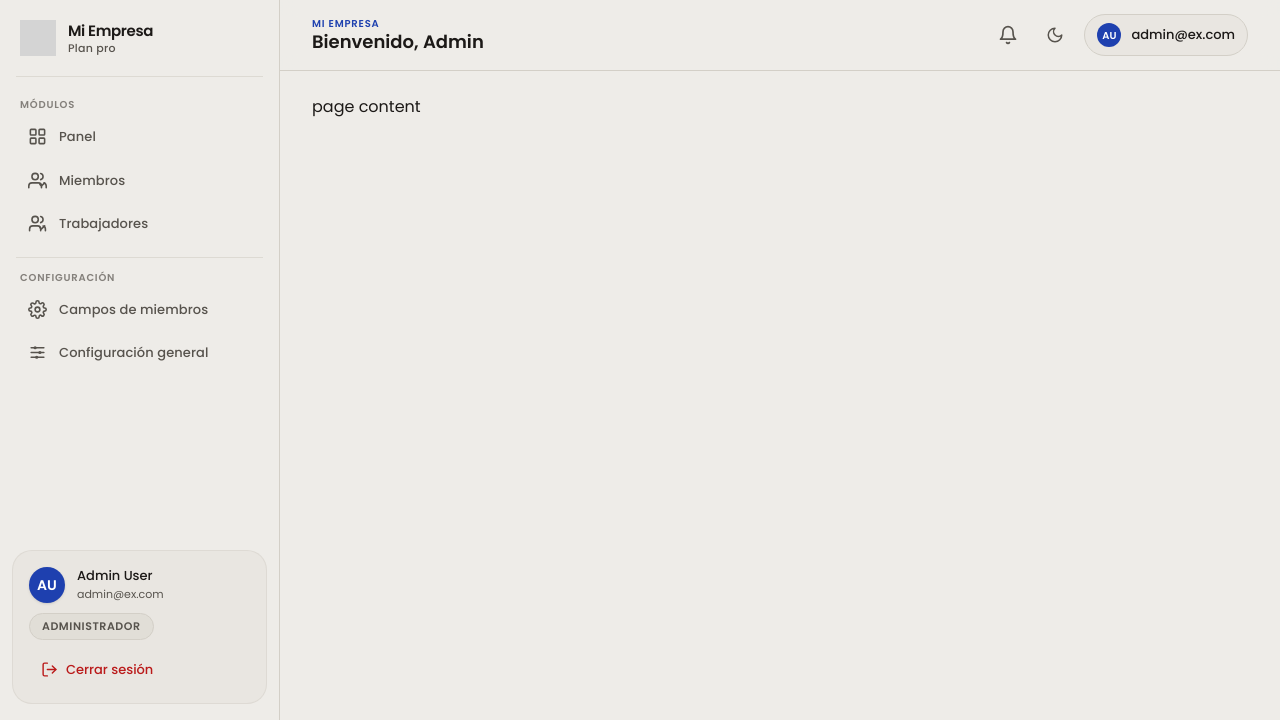
Test: DashboardLayout › theme toggle label changes after click
Click the button named "cambiar a modo oscuro".
click(1055, 35)  # box top-left (1038, 18), bottom-right (1072, 52)
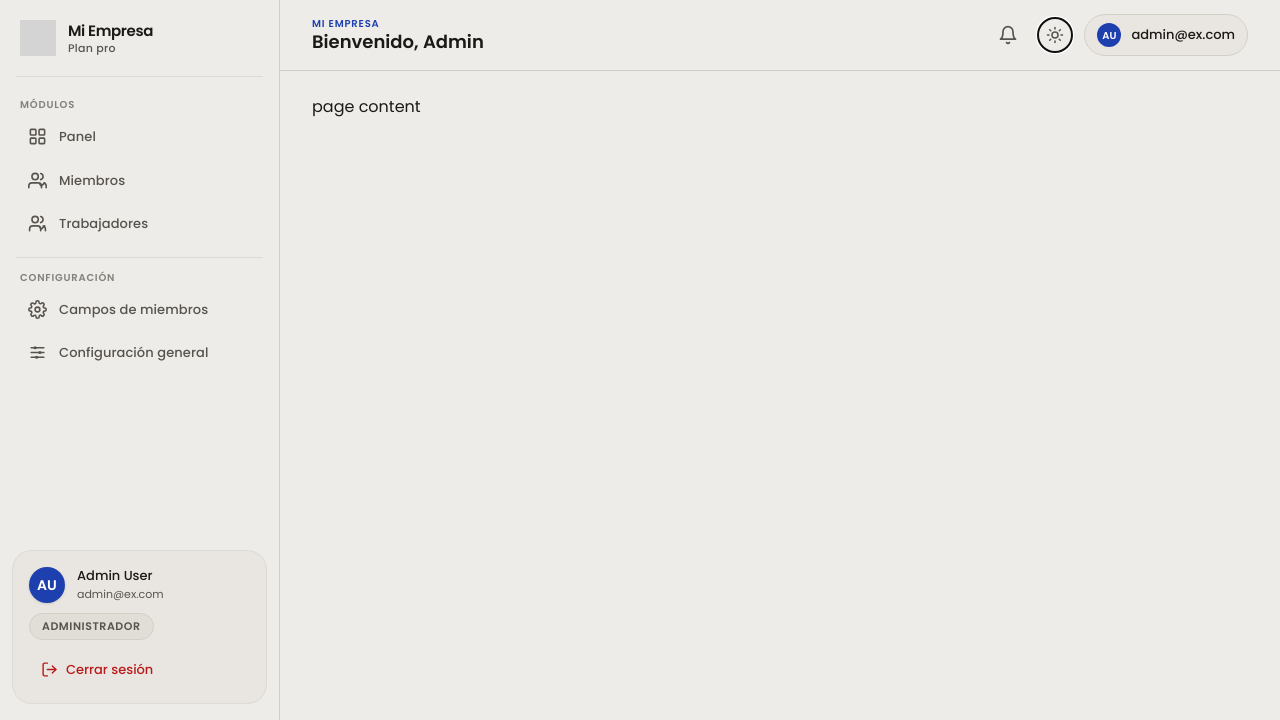
Check: the button named "cambiar a modo claro" is shown, box top-left (1038, 18), bottom-right (1072, 52)
